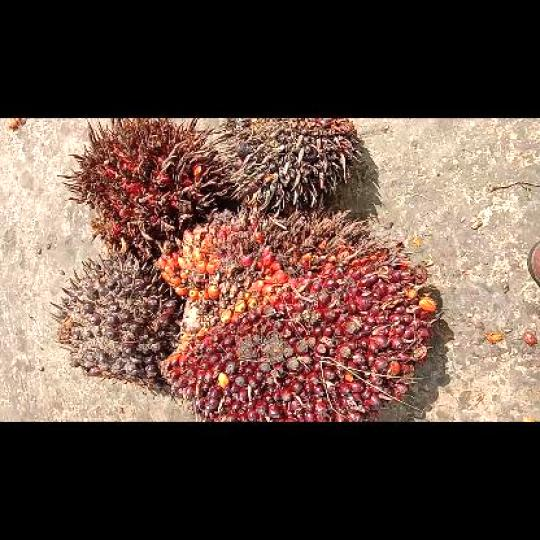kurang masak: (56, 254, 180, 392)
masak: (157, 211, 438, 420)
terlalu masak: (62, 117, 224, 254)
